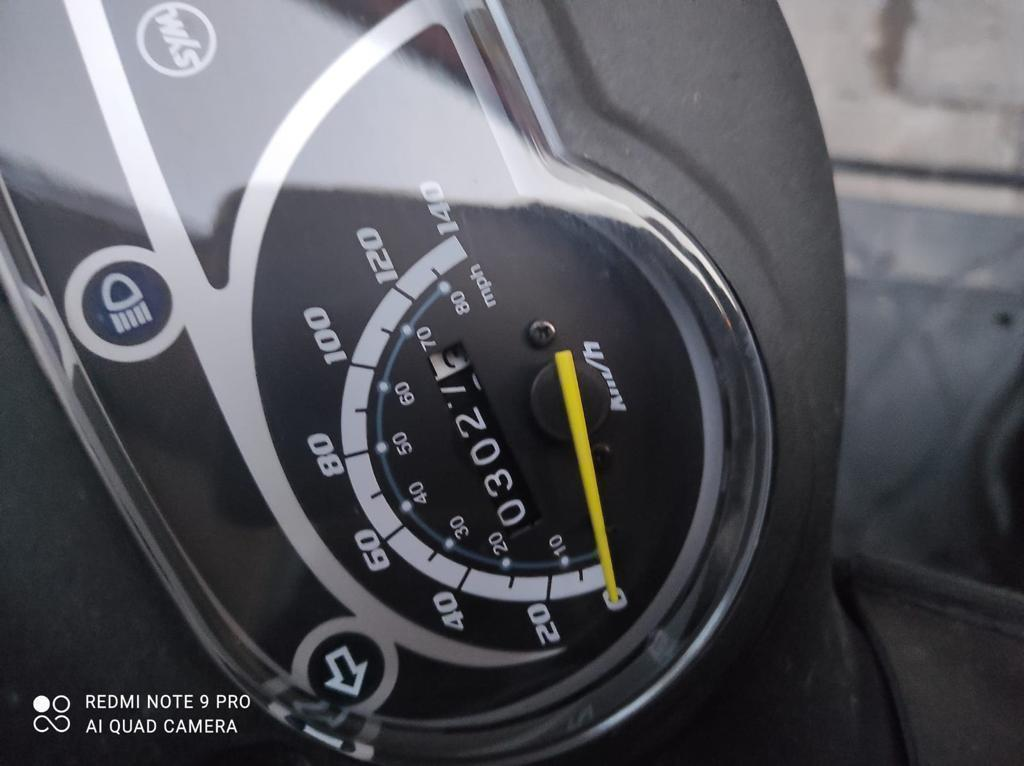0: (469, 436, 500, 466), (495, 498, 527, 526), (449, 514, 466, 528), (488, 531, 503, 542)
2: (454, 406, 487, 437)
3: (484, 468, 512, 497), (440, 340, 469, 368), (454, 525, 469, 538)
7: (436, 383, 469, 408), (421, 338, 437, 352)
odometer: (421, 333, 547, 542)
